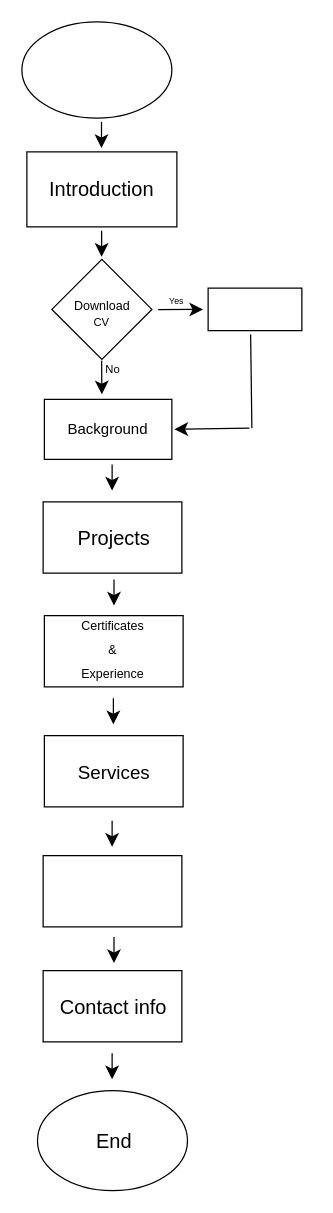
Some shapes in this 333 by 1213 pixel diagram are drawn without their labels. The shapes that lost their labels are listed below. From the top down, each one's centre as x and y in pixels, then its label:
At pixel 96 69: "Start".
At pixel 254 309: "Download success".
At pixel 112 890: "Skills".
